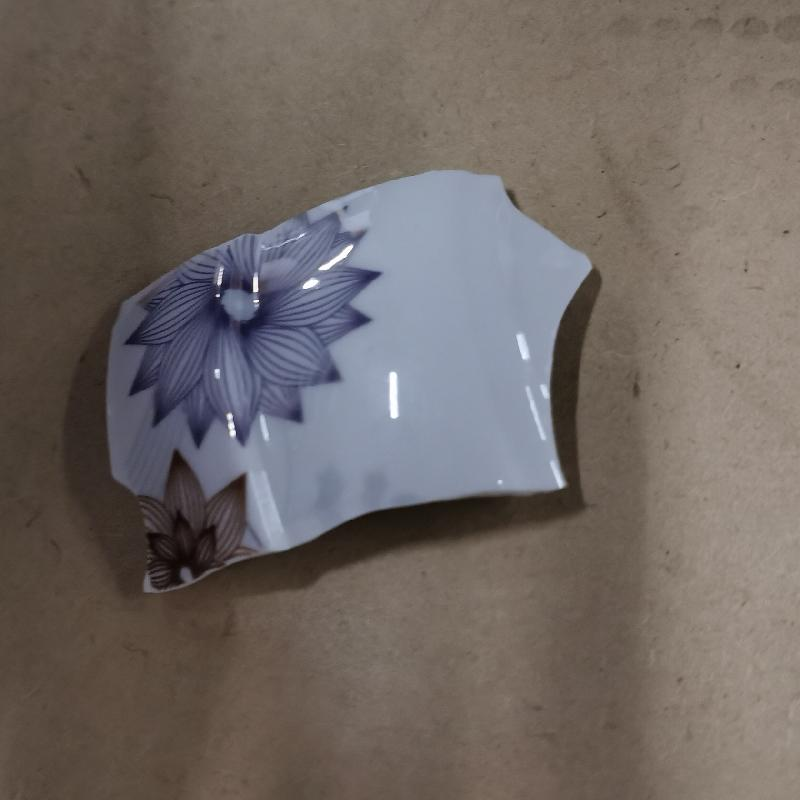ceram: (100, 165, 596, 601)
